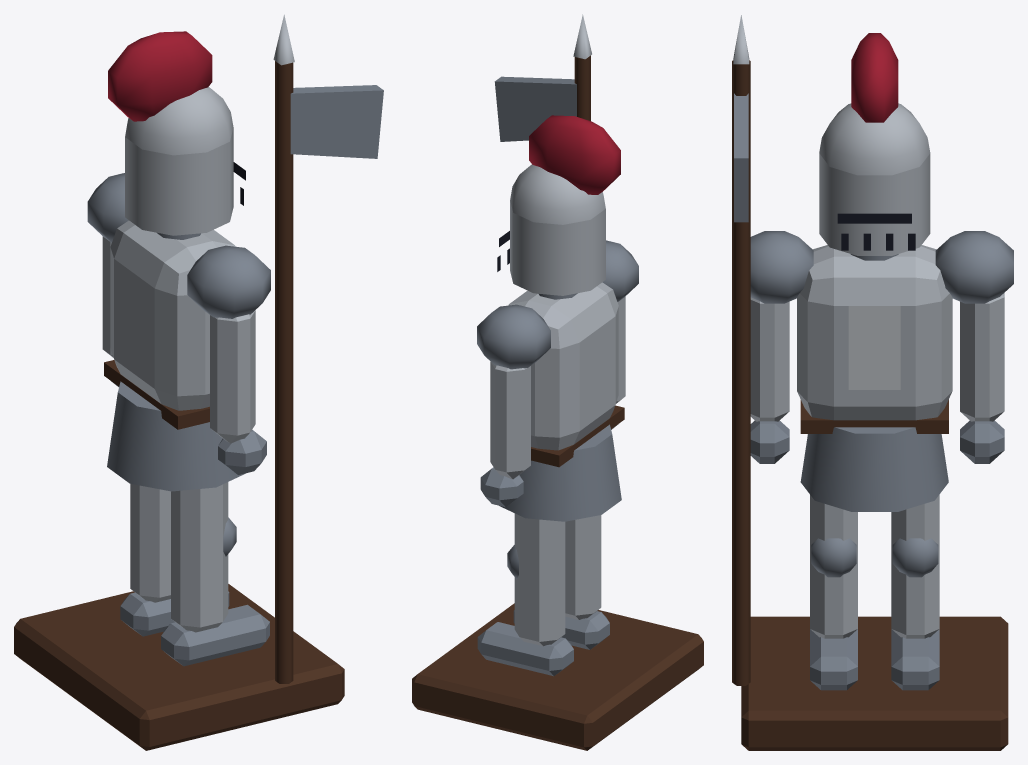
The model's file is museum-prop3.glb.
3 renders of one model, left to right at view 1: azimuth 30°, elevation 25°; view 2: azimuth 150°, elevation 25°; view 3: azimuth 270°, elevation 25°, orthographic. The views are drawn at different scales.
Visible parts, largest first — view 1: museum-prop3; view 2: museum-prop3; view 3: museum-prop3.
Part boxes in pixels (x1,y1,x2,y2): museum-prop3: (14,14,383,750); museum-prop3: (412,14,703,750); museum-prop3: (732,15,1013,750).
Size of the model in its own units: 0.74 by 2.11 by 0.7604.
